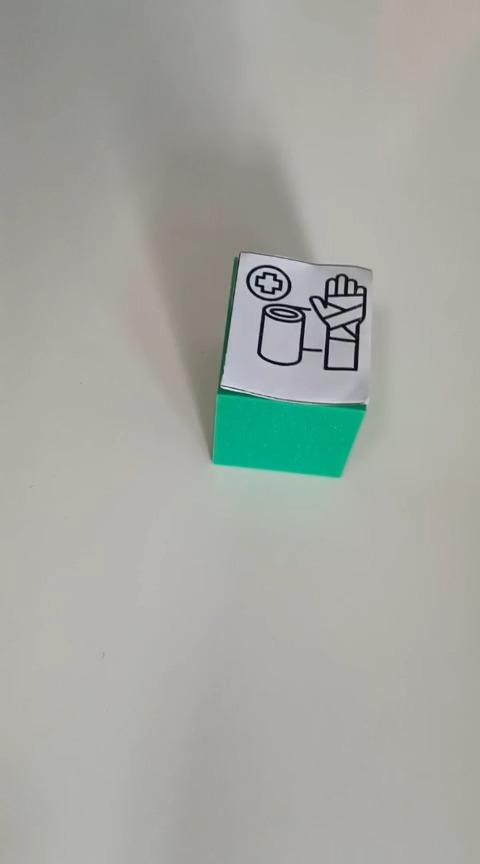Bandages: (210, 249, 373, 478)
